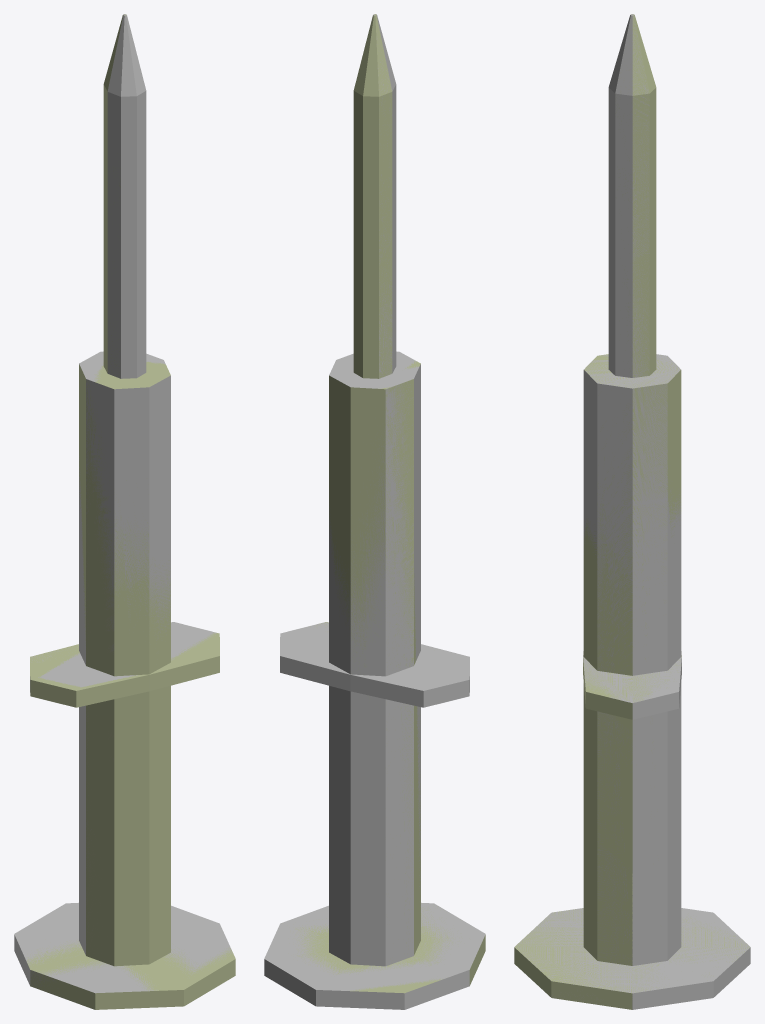
File: syringe.fbx
3 renders of one model, left to right at view 1: azimuth 30°, elevation 25°; view 2: azimuth 150°, elevation 25°; view 3: azimuth 270°, elevation 25°, orthographic.
Parts seen in each view (by area): view 1: Plane.007, Plane.001; view 2: Plane.001, Plane.007; view 3: Plane.001, Plane.007.
Part boxes in pixels (x1=…): Plane.007: x1=26, y1=14, x2=235, y2=1009; Plane.001: x1=14, y1=14, x2=232, y2=1001; Plane.001: x1=264, y1=14, x2=485, y2=1009; Plane.007: x1=295, y1=14, x2=485, y2=993; Plane.001: x1=514, y1=14, x2=750, y2=1009; Plane.007: x1=514, y1=14, x2=749, y2=1009.
Size of the model in its own units: 132 by 633 by 143.
